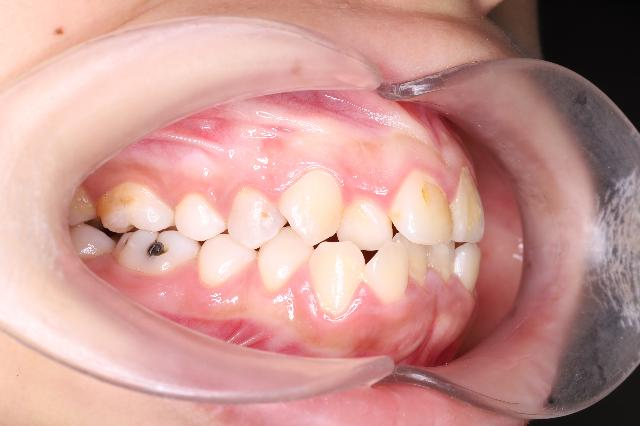canine class III 1/4: (254, 166, 366, 320)
molar class III 1/2: (98, 180, 200, 282)
